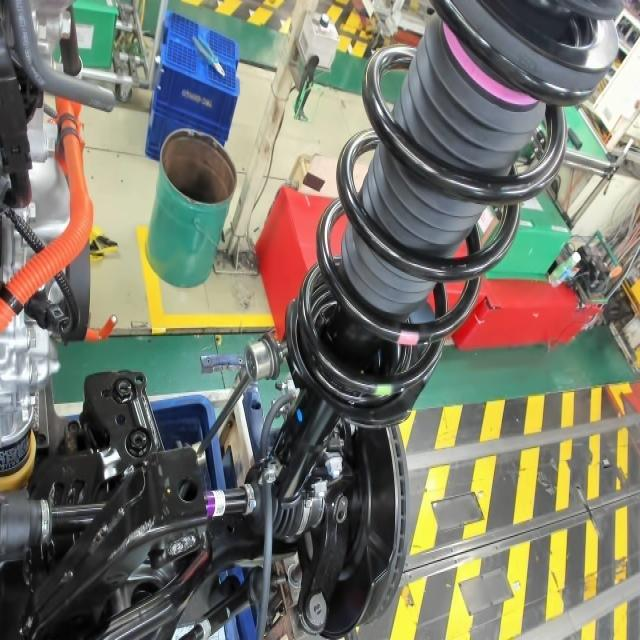Bumper-PK: (438, 13, 543, 111)
Drive Shaft-UG: (204, 489, 228, 523)
